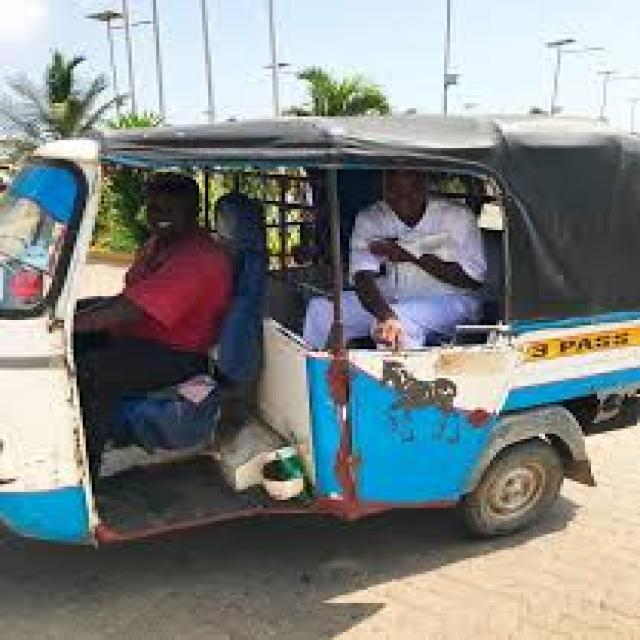tuktuk: (0, 29, 640, 592)
